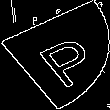P_NW: (16, 23, 94, 87)
